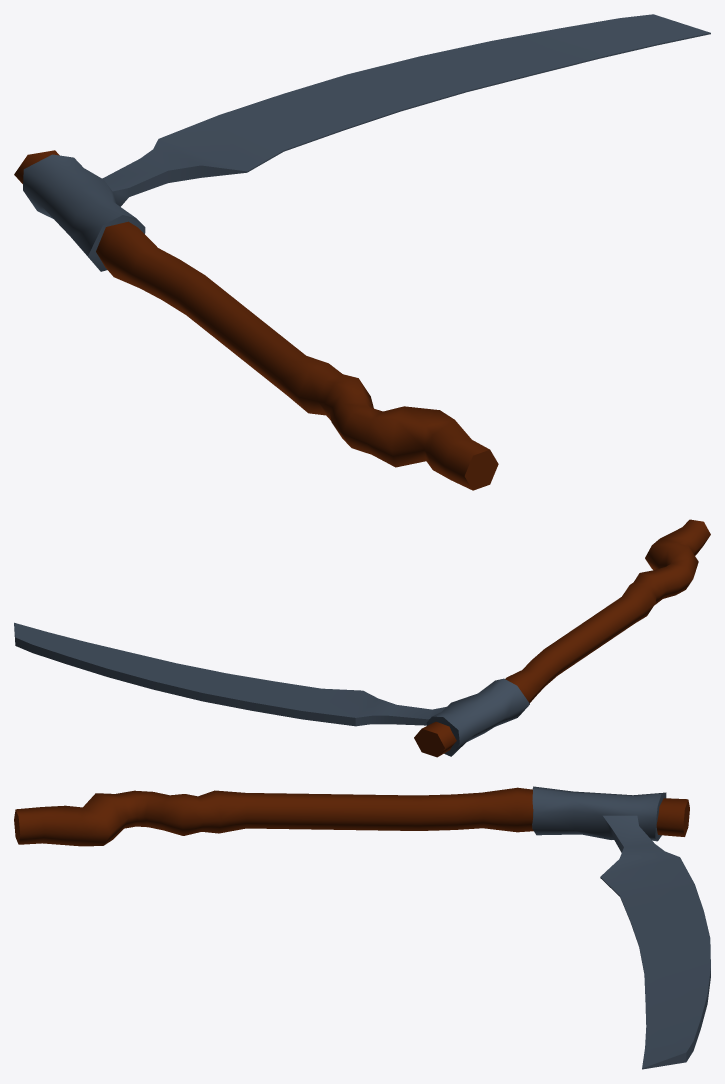
The model's file is Kasilka_01.FBX.
3 views of the same model, one above another, from view 1: azimuth 30°, elevation 25°; view 2: azimuth 150°, elevation 25°; view 3: azimuth 270°, elevation 25° (orthographic). The views are drawn at different scales.
Visible parts, largest first — view 1: Lo_poly; view 2: Lo_poly; view 3: Lo_poly.
Boxes of the visible parts, bbox=[...] form: Lo_poly: bbox=[14, 14, 710, 490]; Lo_poly: bbox=[14, 519, 710, 757]; Lo_poly: bbox=[14, 786, 710, 1069].
Bounding box in the file's own units: 69.34 × 5.26 × 75.35.
